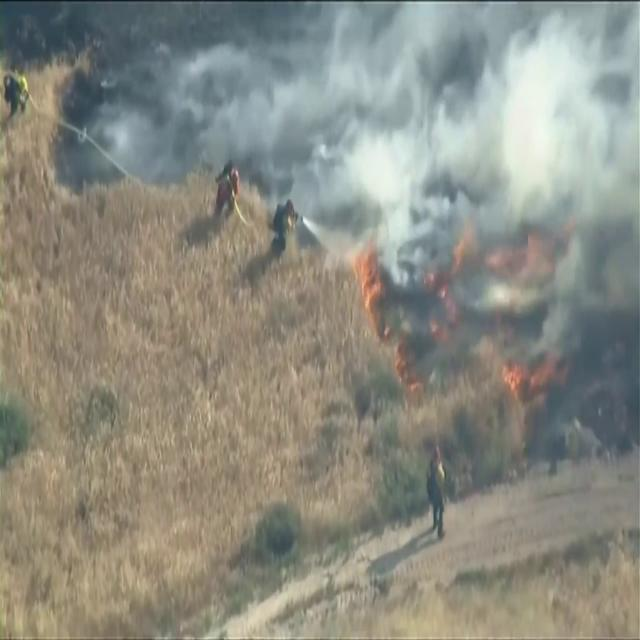Fire: (428, 207, 468, 331), (348, 238, 388, 318), (500, 352, 562, 396)
